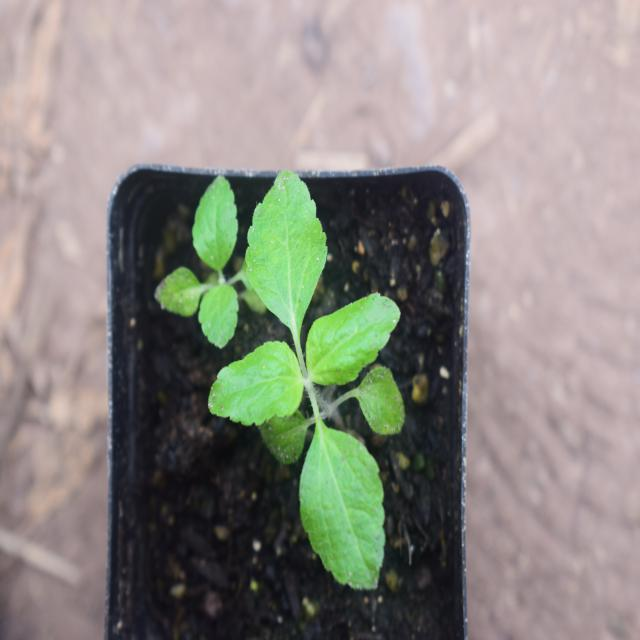billygoat_weed: (230, 185, 404, 579)
